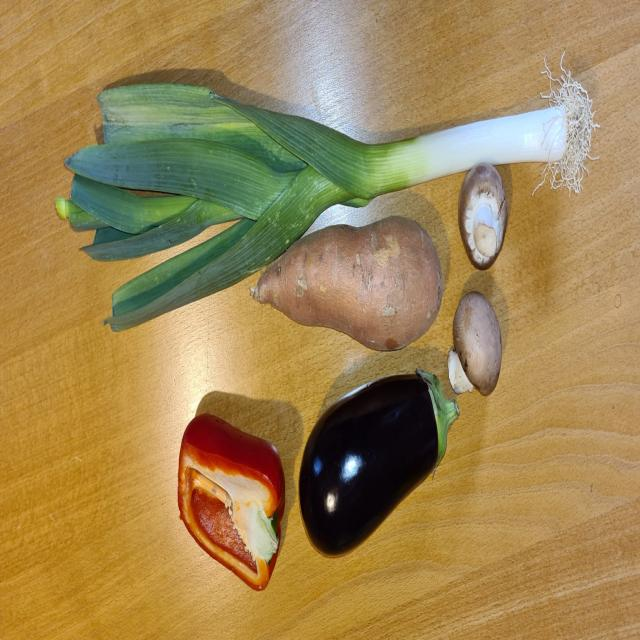Mushroom: (449, 287, 502, 399), (457, 165, 508, 269)
Sweet Potato: (250, 216, 444, 354)
